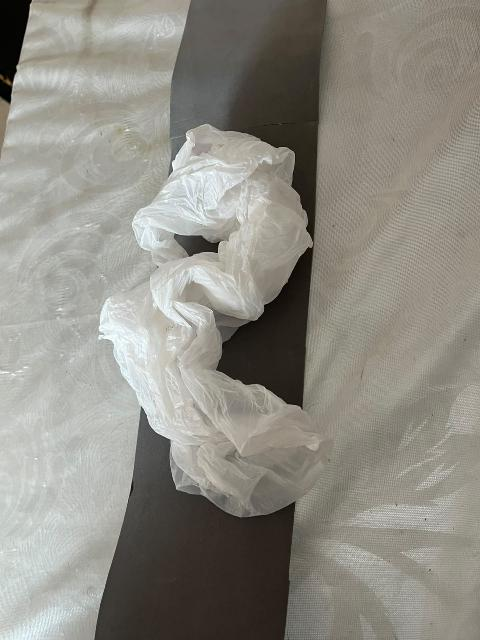LDPE: (68, 86, 396, 558)
